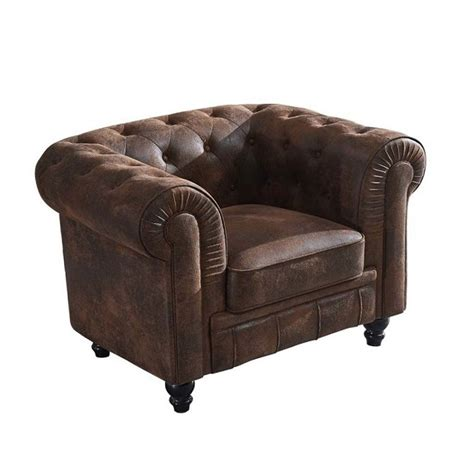cuero: (35, 102, 426, 386)
